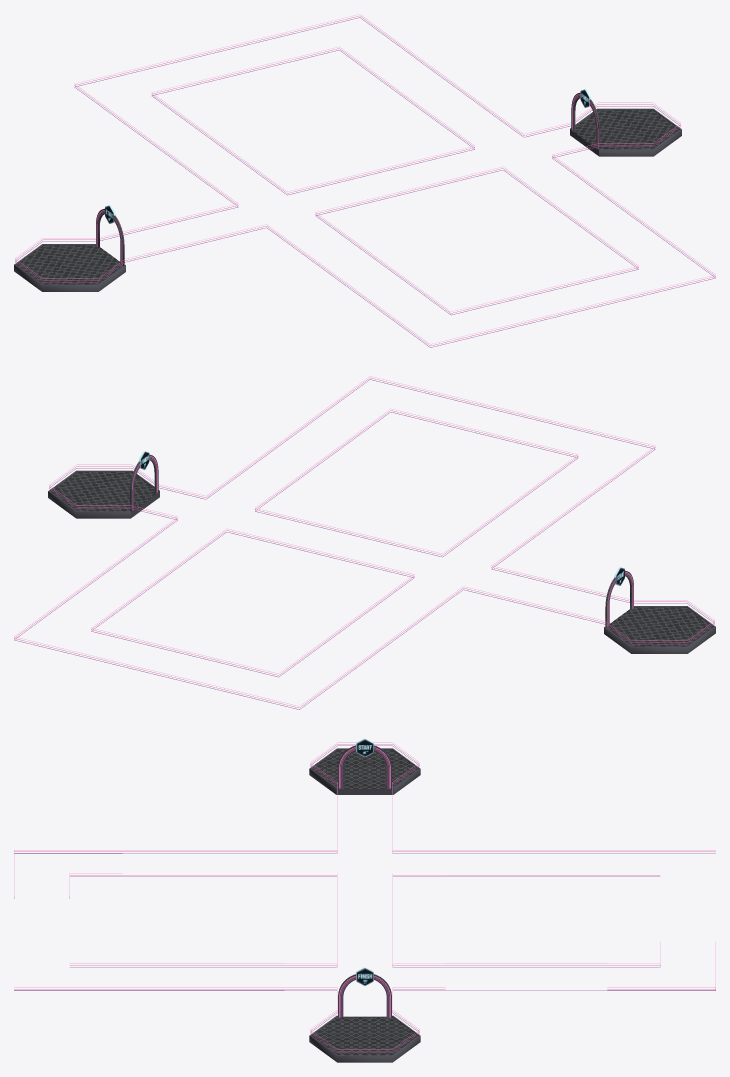
The model's file is map3.glb.
3 renders of one model, top to bottom at view 1: azimuth 30°, elevation 25°; view 2: azimuth 150°, elevation 25°; view 3: azimuth 270°, elevation 25°, orthographic.
Parts seen in each view (by area): view 1: StartArea, FinishArea, Platform4_2.001, Platform4_2, Platform4_4.002, Platform4_4.003, Platform4_4.001, Platform4_4; view 2: StartArea, FinishArea, Platform4_2.001, Platform4_2, Platform4_4.001, Platform4_4.002, Platform4_4, Platform4_4.003; view 3: FinishArea, StartArea, Platform4_2.001, Platform4_2, Platform4_4.003, Platform4_4.002.
Boxes of the visible parts, <box> form: StartArea: <box>14,205,125,291</box>; FinishArea: <box>570,89,681,156</box>; Platform4_2.001: <box>428,114,598,189</box>; Platform4_2: <box>192,172,361,247</box>; Platform4_4.002: <box>375,293,525,347</box>; Platform4_4.003: <box>265,14,414,69</box>; Platform4_4.001: <box>74,60,197,127</box>; Platform4_4: <box>592,234,715,301</box>; StartArea: <box>604,567,715,653</box>; FinishArea: <box>48,451,159,518</box>; Platform4_2.001: <box>131,476,301,551</box>; Platform4_2: <box>368,534,537,608</box>; Platform4_4.001: <box>204,654,354,709</box>; Platform4_4.002: <box>532,422,655,489</box>; Platform4_4: <box>315,376,464,431</box>; Platform4_4.003: <box>14,597,137,663</box>; FinishArea: <box>309,967,420,1062</box>; StartArea: <box>309,738,420,794</box>; Platform4_2.001: <box>284,941,445,1012</box>; Platform4_2: <box>284,828,445,895</box>; Platform4_4.003: <box>607,941,715,990</box>; Platform4_4.002: <box>14,850,122,898</box>.
Size of what is drawn, in the model's own units: 81.13 by 6.8 by 78.21.
Materials: 4 (4 with a texture image).
